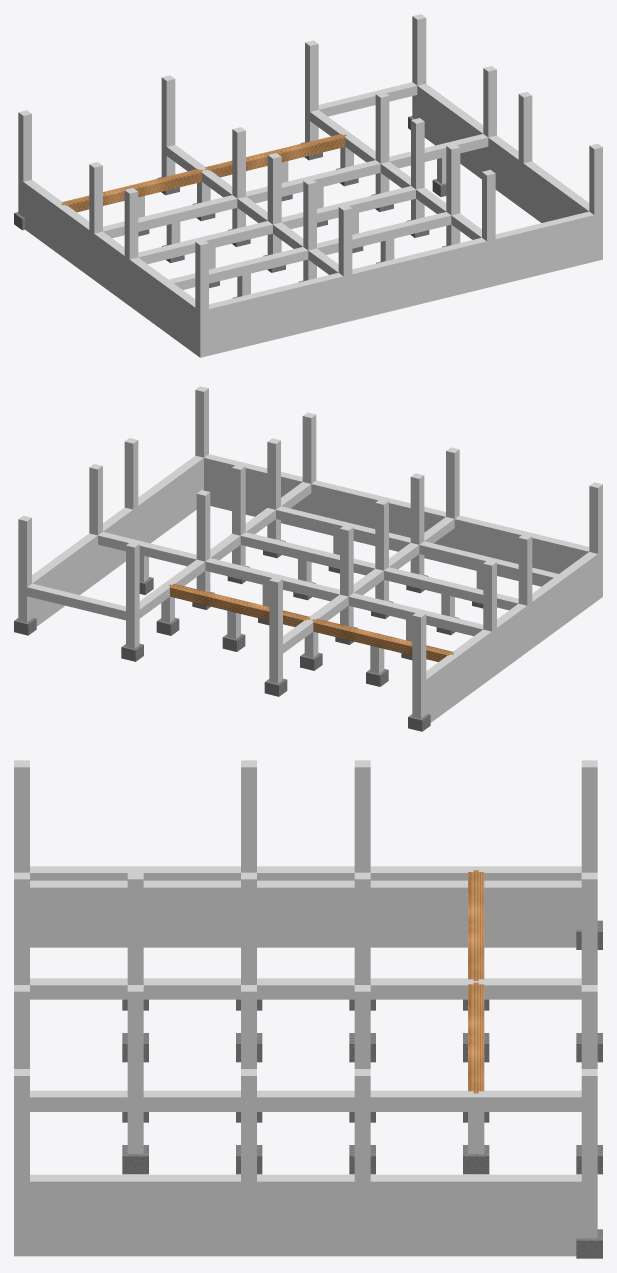
The model's file is Hari.fbx.
3 views of the same model, one above another, from view 1: azimuth 30°, elevation 25°; view 2: azimuth 150°, elevation 25°; view 3: azimuth 270°, elevation 25° (orthographic). The views are drawn at different scales.
Parts seen in each view (by area): view 1: 立方体.031, 立方体.028, 立方体.012, 立方体.021, 立方体.016, 立方体.009, 立方体.007, 立方体.004, 立方体.006, Onta, Onta.002, 立方体.033 (+18 smaller); view 2: 立方体.031, 立方体.012, 立方体.028, 立方体.016, 立方体.021, 立方体.009, 立方体.007, 立方体.006, 立方体.004, Onta, Onta.002, 立方体.033 (+18 smaller); view 3: 立方体.031, 立方体.007, 立方体.006, 立方体.009, 立方体.004, 立方体.002, 立方体.008, 立方体.019, 立方体.025, 立方体.013, 立方体, 立方体.011 (+18 smaller).
Boxes of the visible parts, x1=… form: 立方体.031: x1=23, y1=95, x2=602, y2=357; 立方体.028: x1=209, y1=211, x2=594, y2=318; 立方体.012: x1=103, y1=134, x2=488, y2=238; 立方体.021: x1=169, y1=212, x2=451, y2=289; 立方体.016: x1=138, y1=186, x2=415, y2=264; 立方体.009: x1=23, y1=180, x2=195, y2=316; 立方体.007: x1=417, y1=83, x2=589, y2=213; 立方体.004: x1=166, y1=145, x2=338, y2=274; 立方体.006: x1=310, y1=110, x2=481, y2=239; Onta: x1=61, y1=169, x2=203, y2=212; Onta.002: x1=204, y1=134, x2=346, y2=177; 立方体.033: x1=161, y1=75, x2=175, y2=177; 立方体.031: x1=32, y1=467, x2=602, y2=722; 立方体.012: x1=98, y1=532, x2=483, y2=636; 立方体.028: x1=204, y1=454, x2=589, y2=558; 立方体.016: x1=240, y1=532, x2=518, y2=610; 立方体.021: x1=276, y1=506, x2=558, y2=584; 立方体.009: x1=426, y1=552, x2=597, y2=688; 立方体.007: x1=32, y1=455, x2=203, y2=585; 立方体.006: x1=139, y1=482, x2=311, y2=618; 立方体.004: x1=283, y1=517, x2=454, y2=653; Onta: x1=312, y1=618, x2=453, y2=661; Onta.002: x1=168, y1=583, x2=310, y2=626; 立方体.033: x1=269, y1=576, x2=282, y2=683; 立方体.031: x1=14, y1=880, x2=581, y2=1256; 立方体.007: x1=30, y1=1174, x2=581, y2=1196; 立方体.006: x1=30, y1=1090, x2=581, y2=1111; 立方体.009: x1=30, y1=866, x2=581, y2=887; 立方体.004: x1=30, y1=978, x2=581, y2=999; 立方体.002: x1=354, y1=1069, x2=370, y2=1196; 立方体.008: x1=581, y1=1069, x2=597, y2=1196; 立方体.019: x1=241, y1=1069, x2=256, y2=1196; 立方体.025: x1=14, y1=1069, x2=29, y2=1196; 立方体.013: x1=354, y1=760, x2=370, y2=872; 立方体: x1=581, y1=760, x2=597, y2=872; 立方体.011: x1=354, y1=872, x2=370, y2=984.
Size of the model in its own units: 5.7 by 1.5 by 4.44.
4 materials, 2 textured.
